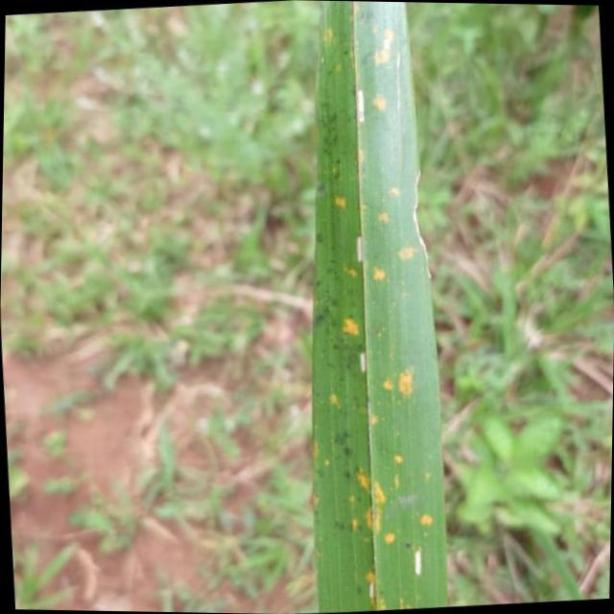Kalium: (312, 0, 448, 614)
